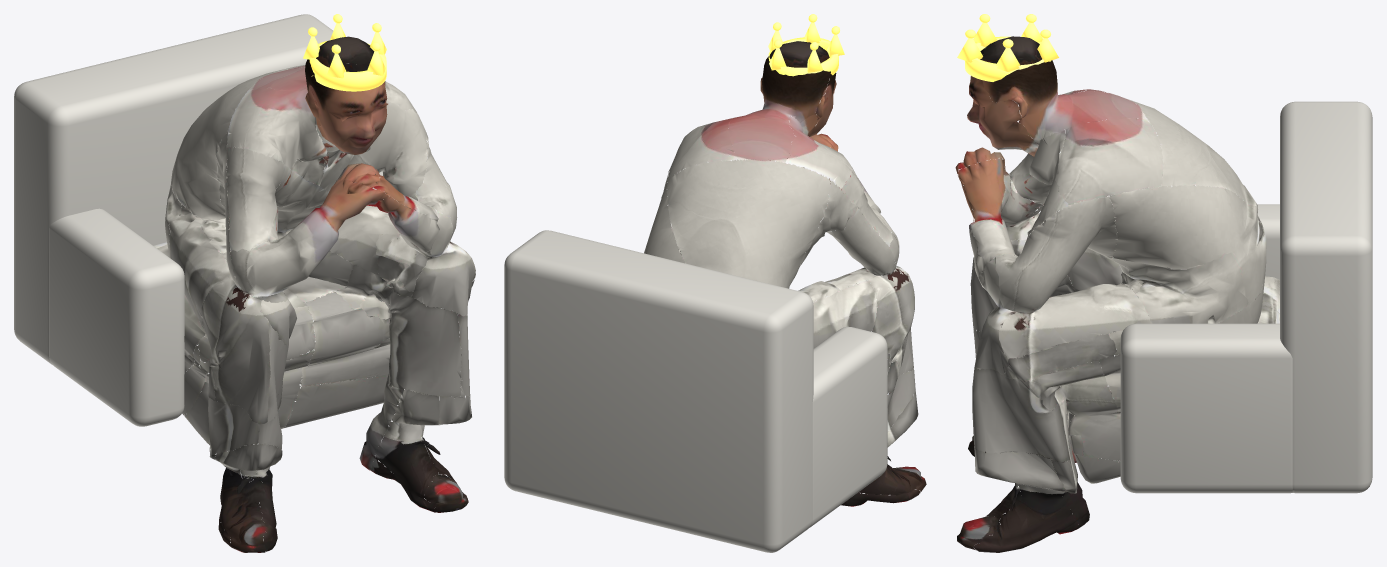
Rendered from person_white.glb.
3 views of the same model, side by side, from view 1: azimuth 30°, elevation 25°; view 2: azimuth 150°, elevation 25°; view 3: azimuth 270°, elevation 25° (orthographic). The views are drawn at different scales.
Visible parts, largest first — view 1: tripo_node_73bbc238-7c02-4fb2-96ef-c8f1fab85f19, backrest, armrest_left, crown; view 2: backrest, tripo_node_73bbc238-7c02-4fb2-96ef-c8f1fab85f19, armrest_left, crown; view 3: tripo_node_73bbc238-7c02-4fb2-96ef-c8f1fab85f19, backrest, armrest_right, crown, armrest_left.
Boxes of the visible parts, x1,y1,x2,y2 form: tripo_node_73bbc238-7c02-4fb2-96ef-c8f1fab85f19: (153, 36, 475, 552); backrest: (14, 14, 348, 364); armrest_left: (49, 208, 184, 426); crown: (303, 14, 386, 91); backrest: (504, 230, 813, 552); tripo_node_73bbc238-7c02-4fb2-96ef-c8f1fab85f19: (644, 41, 926, 506); armrest_left: (809, 326, 887, 527); crown: (768, 14, 844, 76); tripo_node_73bbc238-7c02-4fb2-96ef-c8f1fab85f19: (955, 36, 1279, 552); backrest: (1280, 101, 1372, 493); armrest_right: (1120, 323, 1292, 493); crown: (957, 14, 1058, 81); armrest_left: (1128, 204, 1279, 322).
Size of the model in its own units: 0.67 by 1.03 by 0.8111.
3 materials, 1 textured.
